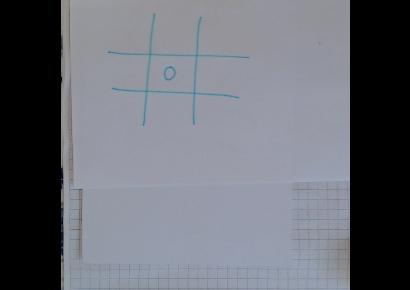O: (158, 62, 180, 84)
grid: (106, 14, 234, 128)
